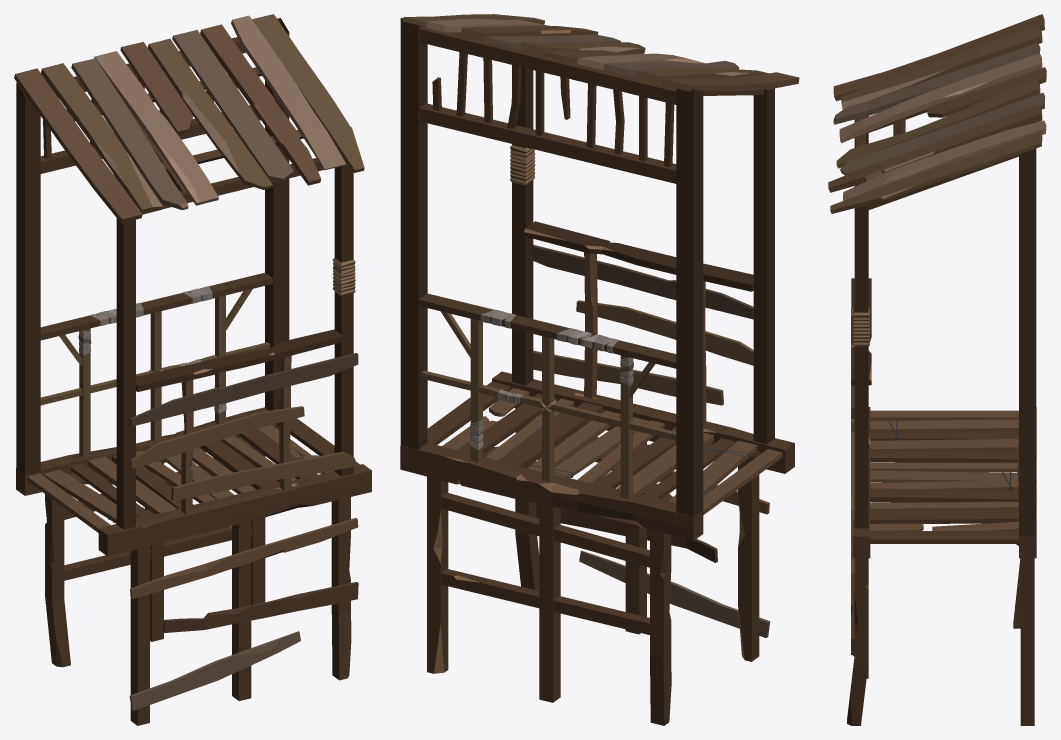
File: SM_Wood_Fence_Bridge_03.glb
3 renders of one model, left to right at view 1: azimuth 30°, elevation 25°; view 2: azimuth 150°, elevation 25°; view 3: azimuth 270°, elevation 25°, orthographic. The views are drawn at different scales.
Visible parts, largest first — view 1: SM_Wood_Fence_Bridge_03; view 2: SM_Wood_Fence_Bridge_03; view 3: SM_Wood_Fence_Bridge_03.
Part boxes in pixels (left/top/right/bottom): SM_Wood_Fence_Bridge_03: left=14, top=14, right=371, bottom=725; SM_Wood_Fence_Bridge_03: left=400, top=14, right=799, bottom=725; SM_Wood_Fence_Bridge_03: left=828, top=14, right=1046, bottom=725.
Bounding box in the file's own units: 2 × 4.27 × 1.42.
1 material, 1 textured.
